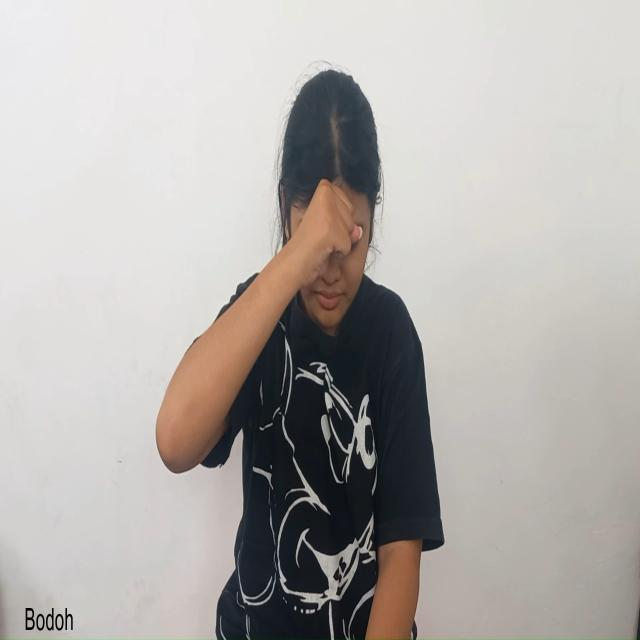Bodoh -BISINDO-: (198, 62, 448, 466)
